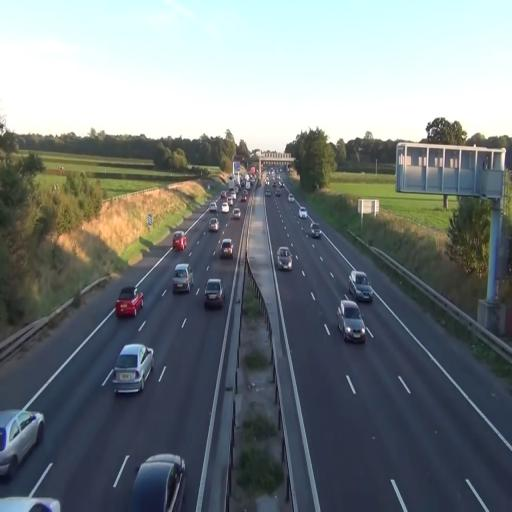vehicle: (131, 452, 187, 512), (0, 407, 45, 481), (112, 343, 154, 396), (336, 300, 366, 344), (115, 285, 143, 319), (350, 270, 372, 302), (204, 278, 224, 309), (172, 264, 191, 294), (276, 245, 294, 271), (219, 238, 233, 258), (208, 214, 221, 234), (307, 221, 319, 237), (310, 222, 320, 238), (299, 208, 308, 219)
